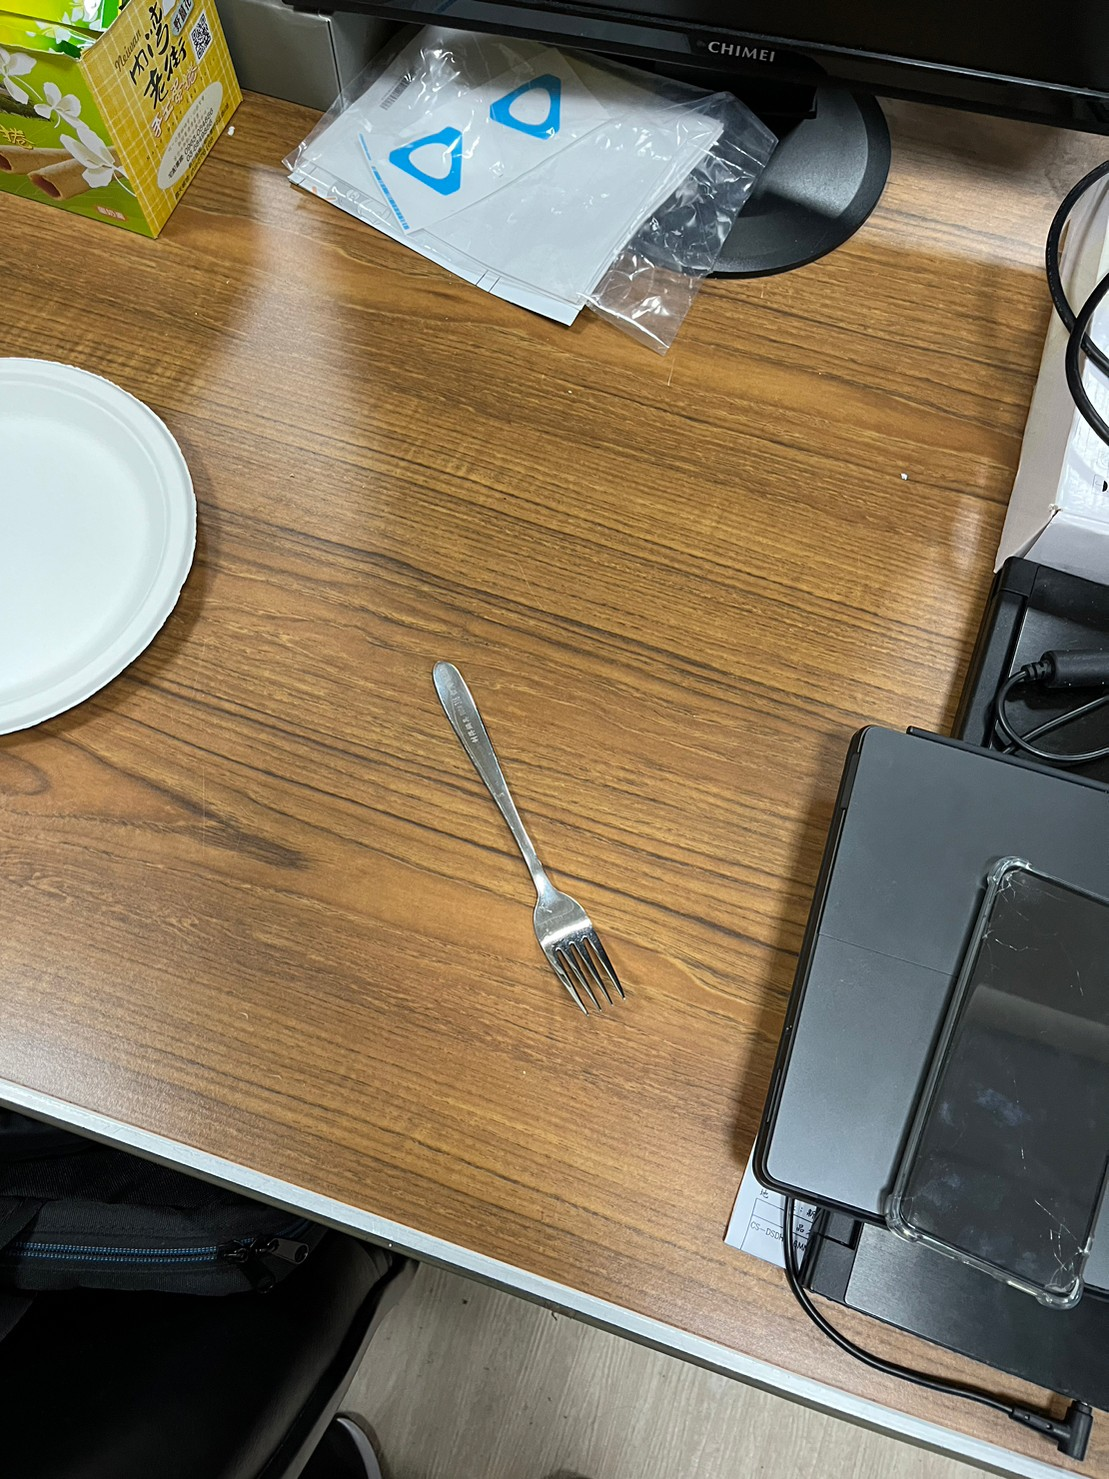fork: (414, 642, 647, 1038)
